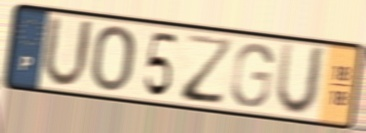5: (142, 29, 180, 98)
G: (228, 41, 276, 110)
O: (89, 23, 137, 94)
U: (39, 12, 96, 91), (272, 40, 328, 119)
Z: (180, 32, 236, 109)
